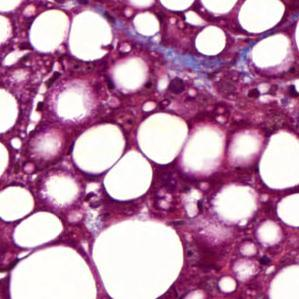steatosis: (71, 123, 127, 175), (236, 0, 284, 36), (0, 184, 36, 221), (194, 26, 228, 58), (0, 88, 21, 134)
